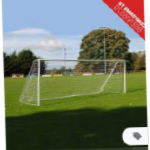goals: (18, 57, 129, 109)
